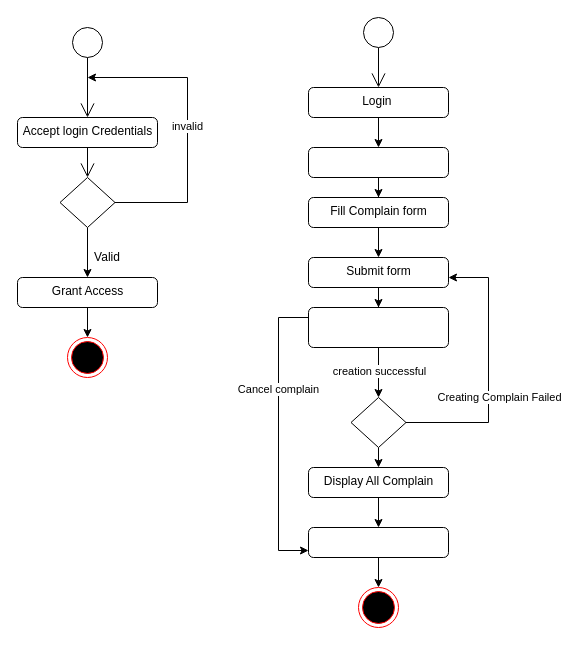
The diagram is 578 pixels wide and 645 high, and some of its shapes have lost their labels. The centre of each missing label's shape, as x and y in pixels:
Click on Complain: the point at 378,162
Logout: the point at 378,542
Save to Table: the point at 378,327
